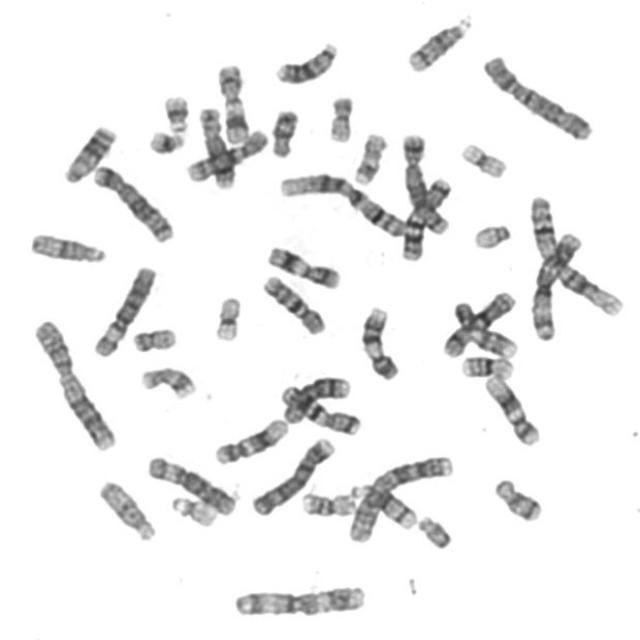A1: (524, 189, 626, 317), (272, 166, 410, 240)
A2: (28, 313, 119, 453), (341, 448, 456, 544)
A3: (524, 225, 586, 342), (227, 579, 369, 619)
B4: (476, 48, 595, 142), (246, 431, 336, 517)
B5: (86, 158, 176, 244), (396, 127, 451, 235)
C10: (180, 122, 272, 184), (256, 269, 329, 337)
C11: (261, 239, 343, 290), (210, 57, 251, 144)
C12: (479, 368, 542, 448), (209, 412, 291, 466)
C6: (87, 259, 159, 358), (142, 448, 240, 516)
C7: (396, 171, 454, 262), (276, 378, 363, 437)
C8: (278, 370, 353, 426), (193, 100, 238, 190)
C9: (440, 288, 518, 359), (354, 299, 402, 382)
D13: (56, 118, 118, 186), (270, 35, 340, 86)
D14: (401, 8, 475, 74), (343, 476, 418, 530)
D15: (93, 474, 159, 544), (24, 225, 109, 265)
E16: (296, 486, 359, 518), (455, 349, 516, 381)
E17: (134, 360, 198, 401), (348, 126, 389, 186)
E18: (487, 472, 545, 524), (266, 102, 300, 158)
F19: (454, 136, 510, 180), (208, 289, 244, 343)
F20: (322, 88, 356, 144), (126, 321, 179, 353)
G21: (157, 88, 191, 134), (142, 124, 187, 156)
G22: (165, 489, 219, 528), (468, 218, 514, 250)
X: (438, 286, 518, 359)
Y: (412, 508, 454, 550)
